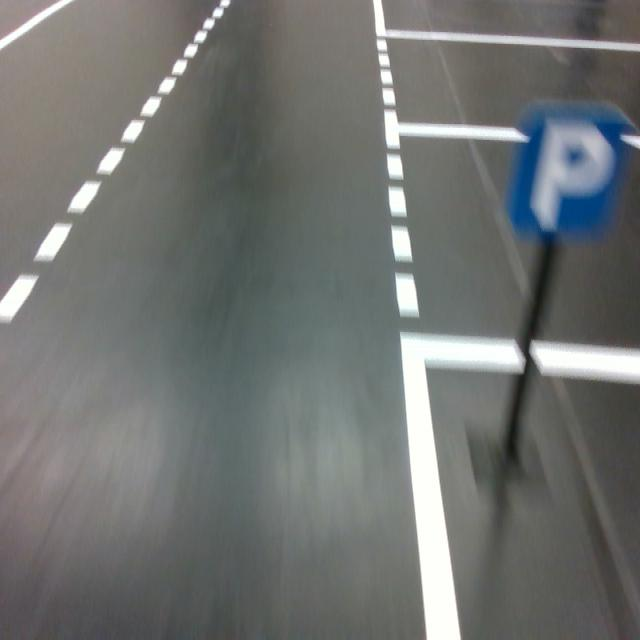parking-sign: (510, 106, 630, 238)
